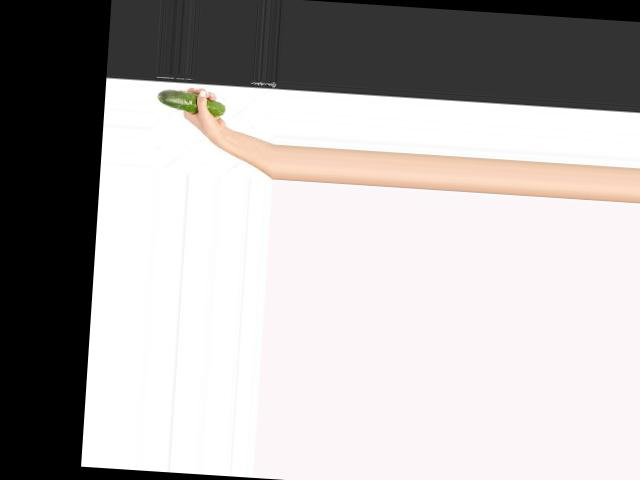cucumber: (155, 88, 225, 116)
